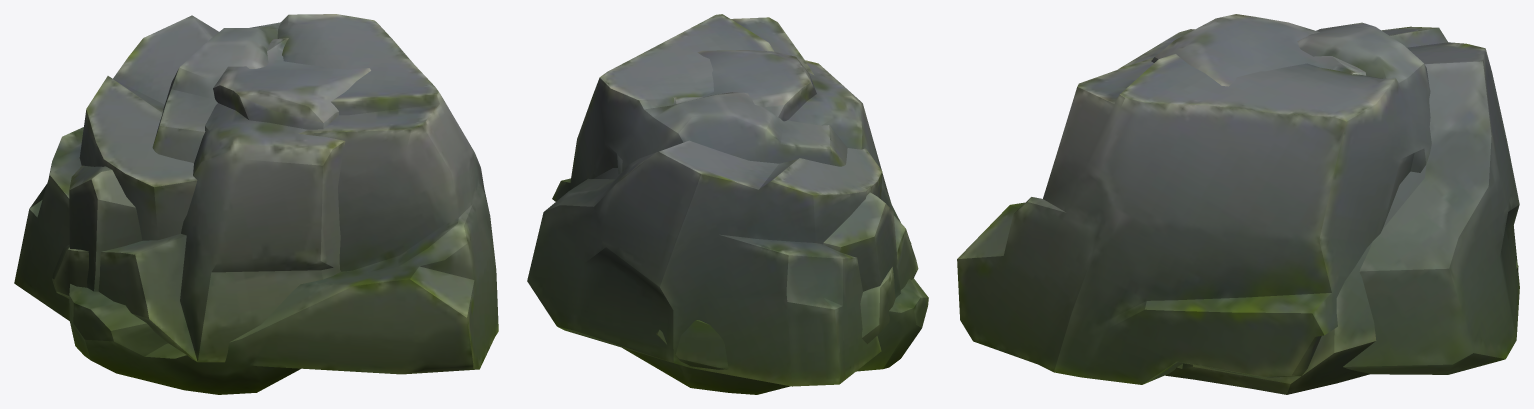
Rendered from megakit-rocks.glb.
3 renders of one model, left to right at view 1: azimuth 30°, elevation 25°; view 2: azimuth 150°, elevation 25°; view 3: azimuth 270°, elevation 25°, orthographic. The views are drawn at different scales.
Parts seen in each view (by area): view 1: Rock_Medium_3, Rock_Medium_1, Rock_Medium_2; view 2: Rock_Medium_2, Rock_Medium_3, Rock_Medium_1; view 3: Rock_Medium_3, Rock_Medium_2, Rock_Medium_1.
Boxes of the visible parts, x1,y1,x2,y2 form: Rock_Medium_3: (69,14,498,394); Rock_Medium_1: (52,38,370,362); Rock_Medium_2: (14,15,218,320); Rock_Medium_2: (527,140,882,386); Rock_Medium_3: (552,14,928,371); Rock_Medium_1: (573,50,918,394); Rock_Medium_3: (957,22,1431,384); Rock_Medium_2: (1343,26,1519,374); Rock_Medium_1: (1118,14,1518,394).
Size of the model in its own units: 3.42 by 2.32 by 3.74.
Materials: 2 (2 with a texture image).
